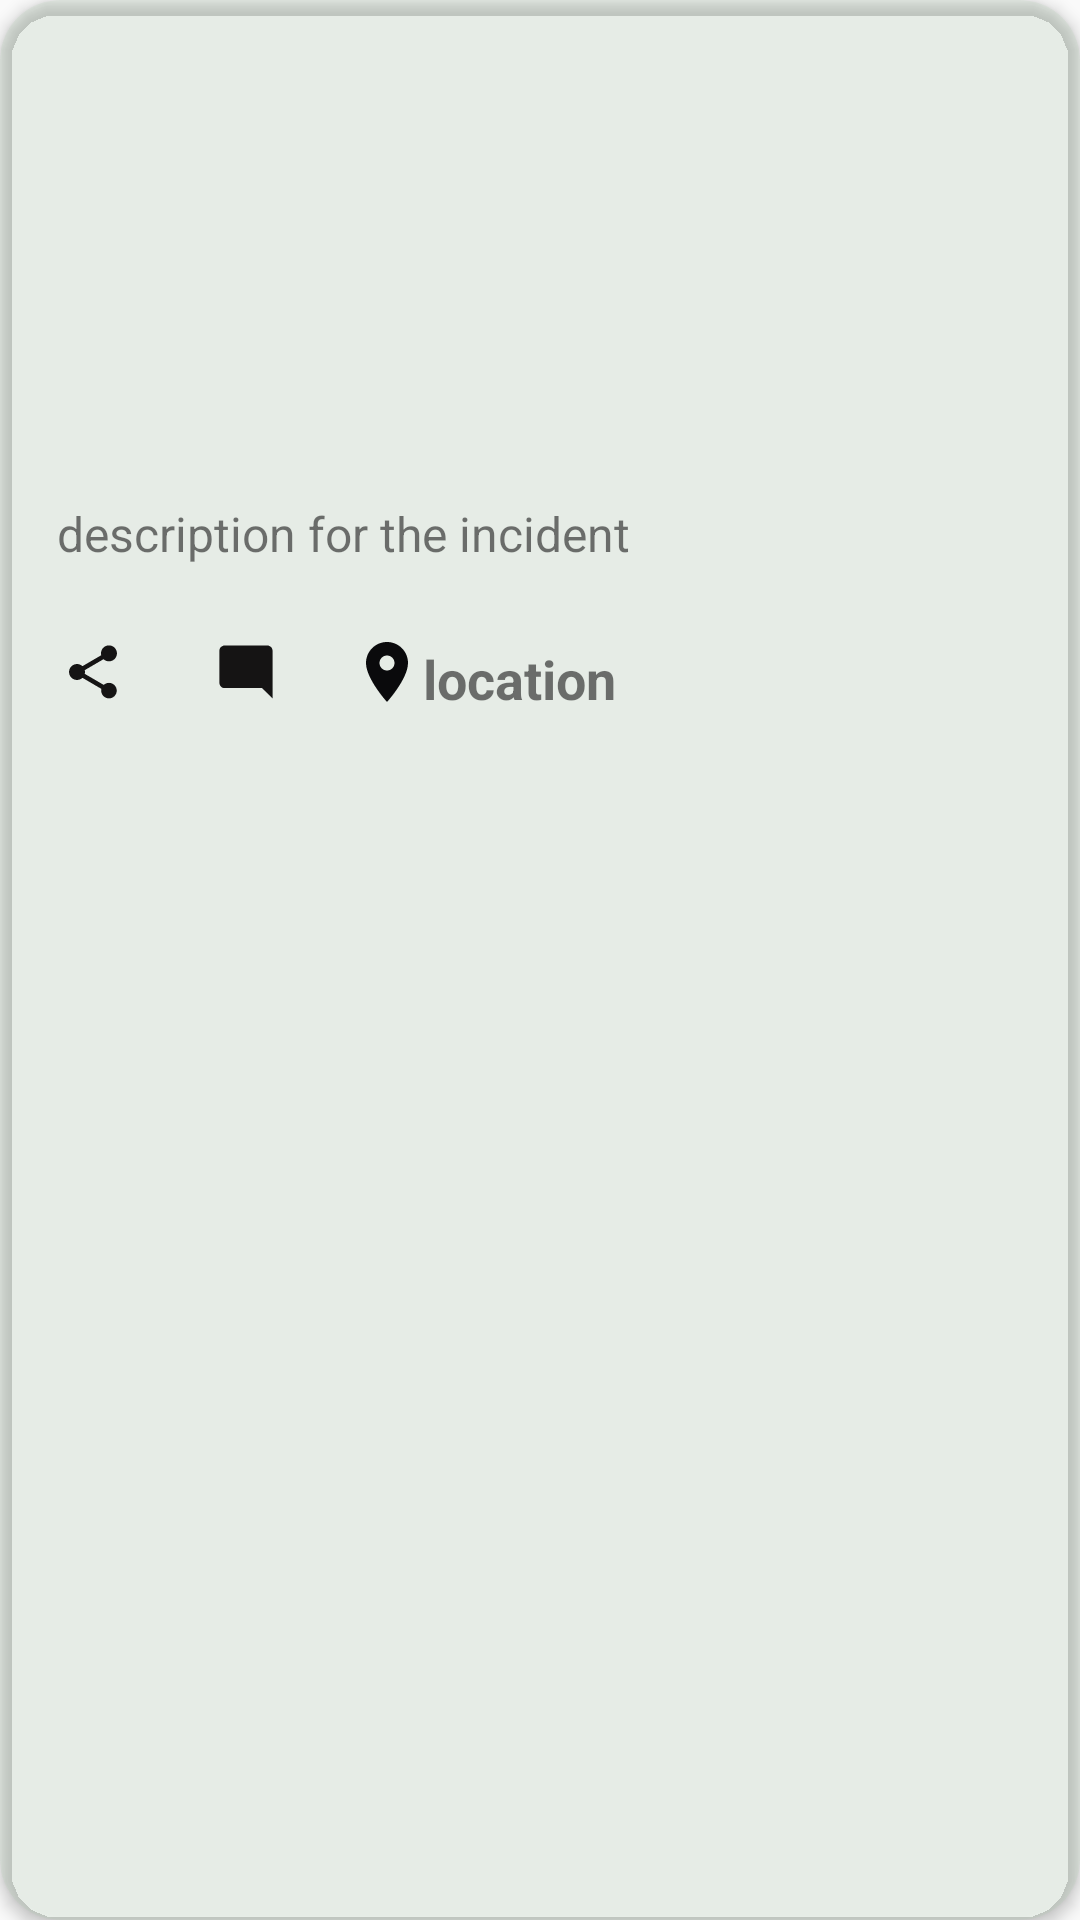

Icon bounding boxes for this 1080×1920 phone screenshot, format bbox=(x1, y1, x2, y2):
comment: bbox=(219, 645, 273, 699)
share: bbox=(69, 645, 117, 699)
